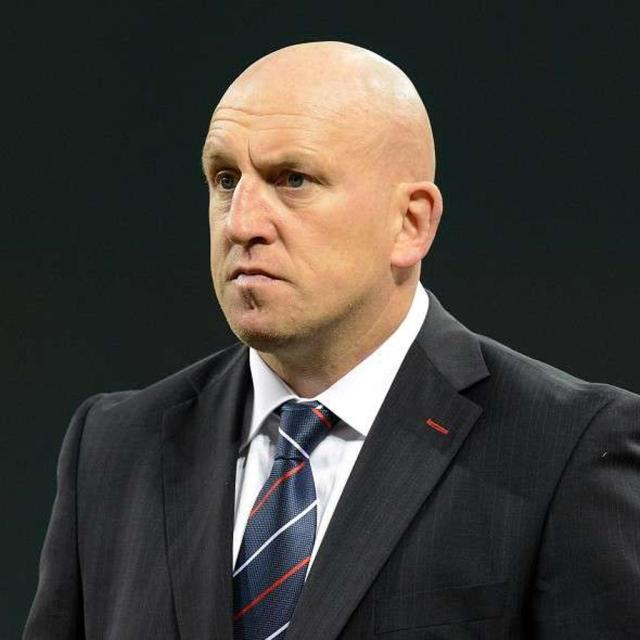Face: (189, 43, 422, 356)
